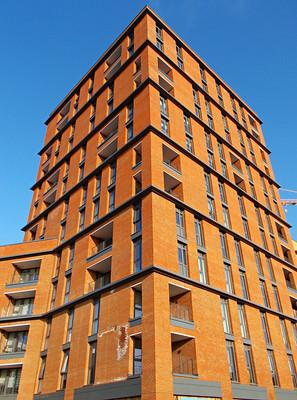building: (21, 4, 297, 400)
